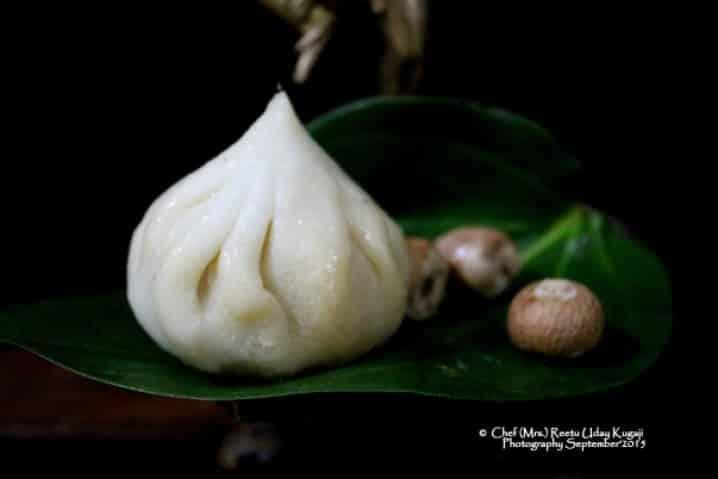modak: (175, 173, 353, 363)
